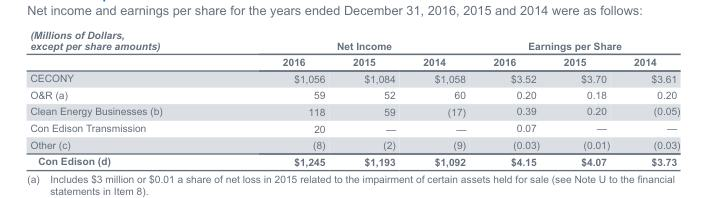table: (29, 29, 679, 167)
table column: (29, 29, 221, 167), (221, 29, 338, 167), (478, 29, 550, 167), (550, 29, 621, 167), (338, 29, 408, 167), (408, 29, 478, 167), (621, 29, 679, 167)
table column header: (29, 29, 679, 69)
table row: (29, 29, 679, 53), (29, 69, 679, 86), (29, 102, 679, 119), (29, 119, 679, 136), (29, 53, 679, 69), (29, 86, 679, 102), (29, 136, 679, 152), (29, 152, 679, 167)
table spanning cell: (29, 29, 221, 69), (221, 29, 478, 53), (478, 29, 679, 53)
